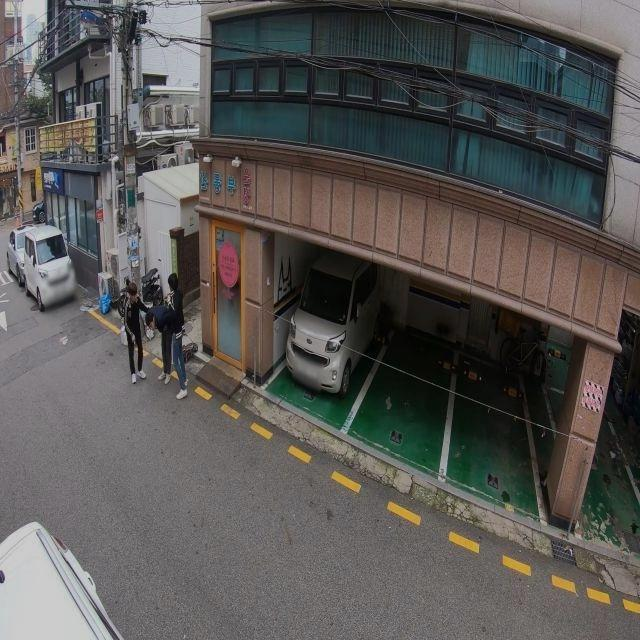non-fight: (163, 272, 193, 401), (119, 282, 150, 384), (141, 302, 174, 385)
